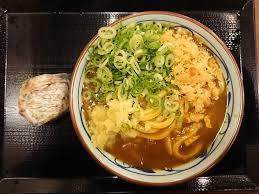curry: (64, 7, 252, 190)
